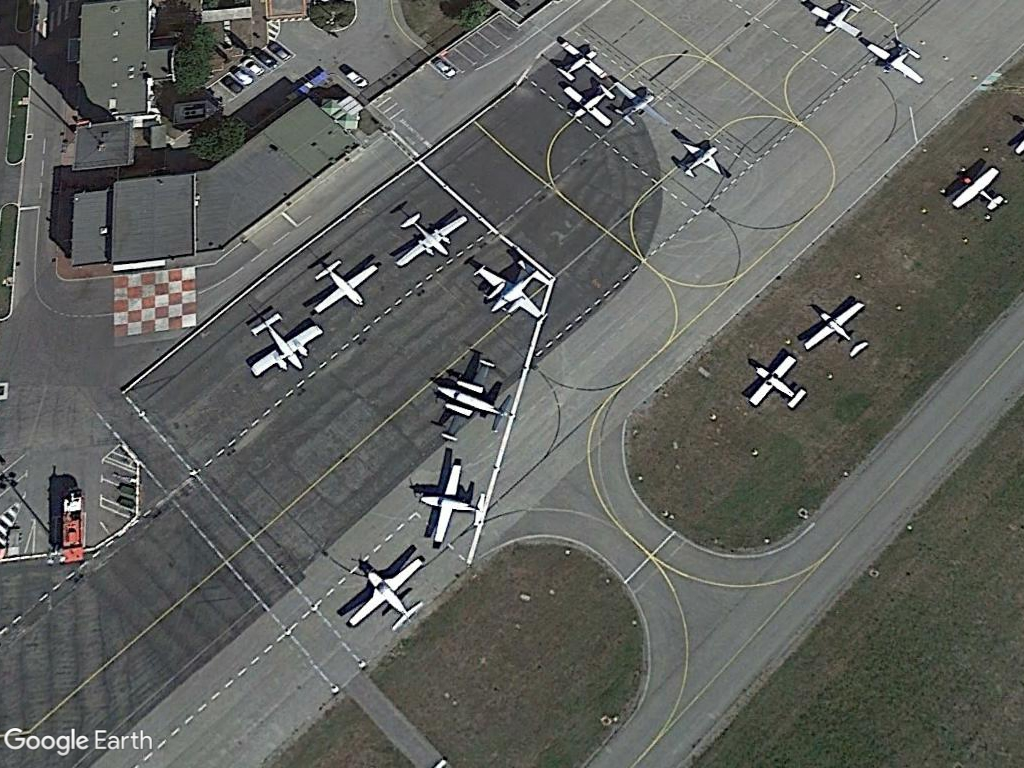trainer: (333, 553, 433, 634), (413, 456, 492, 550), (238, 314, 329, 377), (389, 208, 470, 274), (303, 254, 385, 319), (794, 299, 871, 362), (739, 349, 808, 412), (947, 164, 1014, 215), (862, 36, 930, 86), (553, 35, 609, 86)
